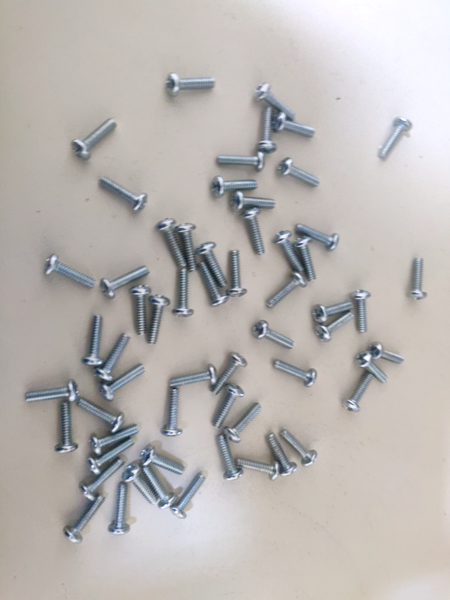shortscrew: (70, 118, 119, 161), (63, 496, 105, 545), (79, 458, 124, 502), (99, 176, 149, 214), (87, 438, 136, 476), (43, 254, 96, 289), (100, 266, 152, 300), (77, 398, 126, 434), (100, 364, 147, 401), (95, 334, 131, 382), (171, 473, 206, 520), (254, 83, 297, 121), (265, 271, 308, 309), (91, 424, 140, 457), (224, 402, 263, 443), (211, 353, 248, 396), (378, 116, 414, 160), (212, 383, 245, 430), (157, 218, 187, 269), (280, 430, 320, 468), (195, 242, 227, 289), (197, 262, 228, 308), (144, 467, 177, 510), (273, 230, 305, 274), (123, 465, 158, 505), (215, 434, 244, 482), (139, 446, 187, 475), (278, 158, 321, 189), (296, 223, 341, 252), (147, 294, 172, 346), (273, 360, 317, 389), (268, 432, 297, 476), (314, 312, 355, 343), (343, 370, 373, 412), (253, 320, 296, 349), (170, 364, 218, 389), (108, 483, 131, 535), (55, 402, 78, 454), (25, 380, 78, 402), (211, 175, 259, 199), (272, 112, 316, 138), (172, 269, 195, 318), (130, 285, 152, 336), (242, 208, 265, 256), (293, 236, 317, 282), (166, 74, 216, 96), (161, 389, 183, 437), (355, 353, 389, 384), (83, 316, 104, 366), (227, 249, 248, 298), (236, 459, 280, 482), (176, 223, 196, 273), (218, 151, 265, 172), (408, 257, 430, 301), (350, 290, 372, 334), (312, 301, 354, 324), (259, 107, 278, 156), (230, 191, 276, 211), (369, 342, 405, 366)
